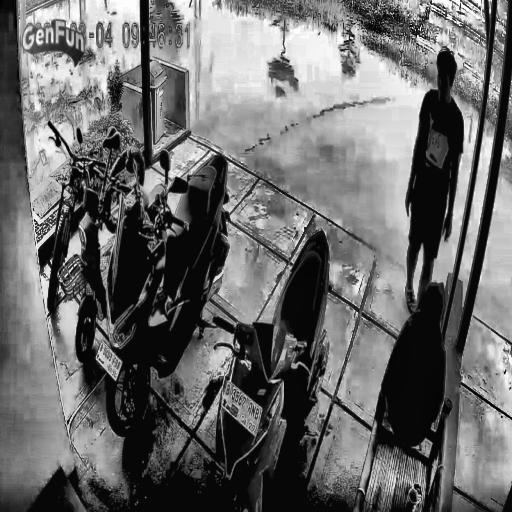siaga: (157, 0, 424, 422), (455, 179, 512, 511)
